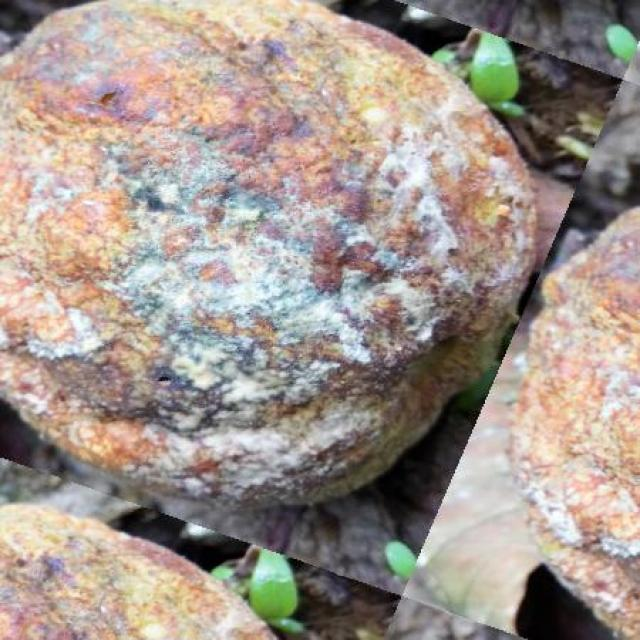Phytopthora: (0, 1, 536, 508), (511, 209, 640, 639)
